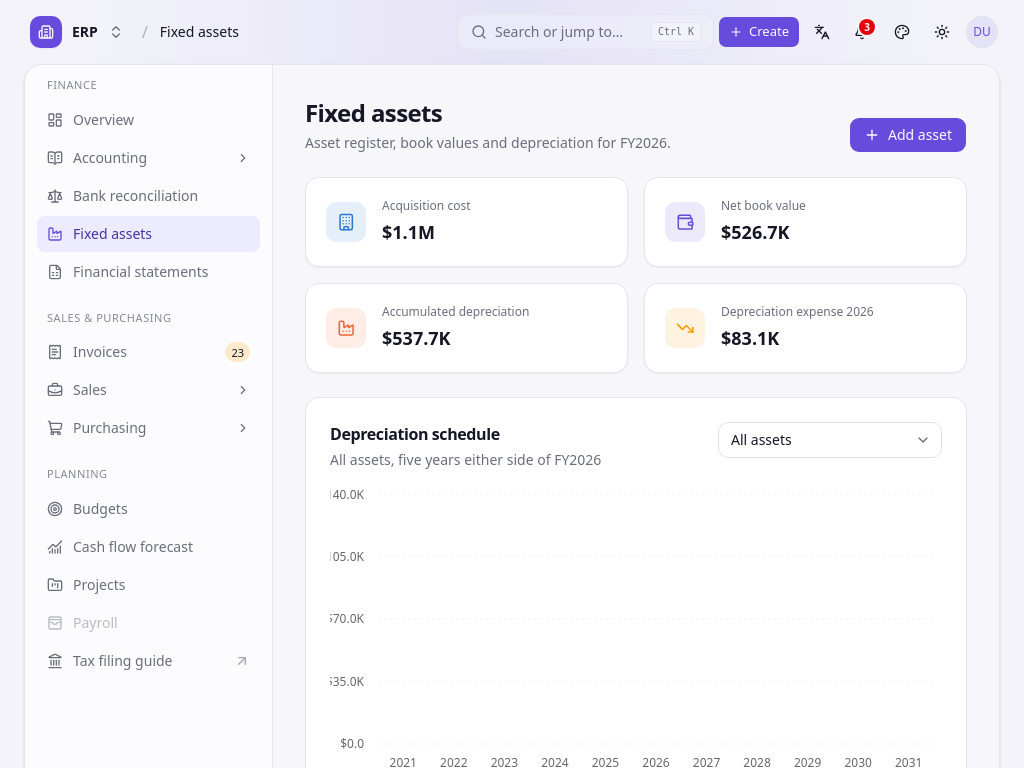
Test case: ERP operations › lists fixed assets and validates the add-asset form
The image size is (1024, 768).
Expected: the heading "Depreciation schedule" is shown, [330,423,500,445]
Click the button "Add asset": [908, 135] box [849,117,967,153]
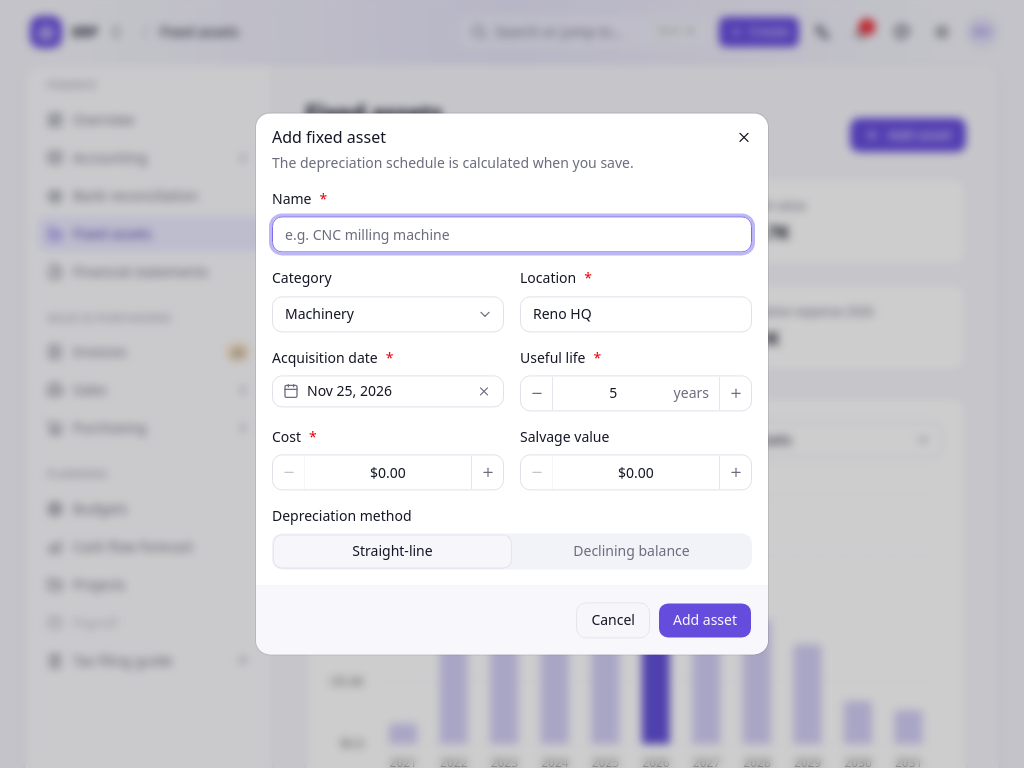
Click the button "Add asset": [705, 621] box [658,603,752,639]
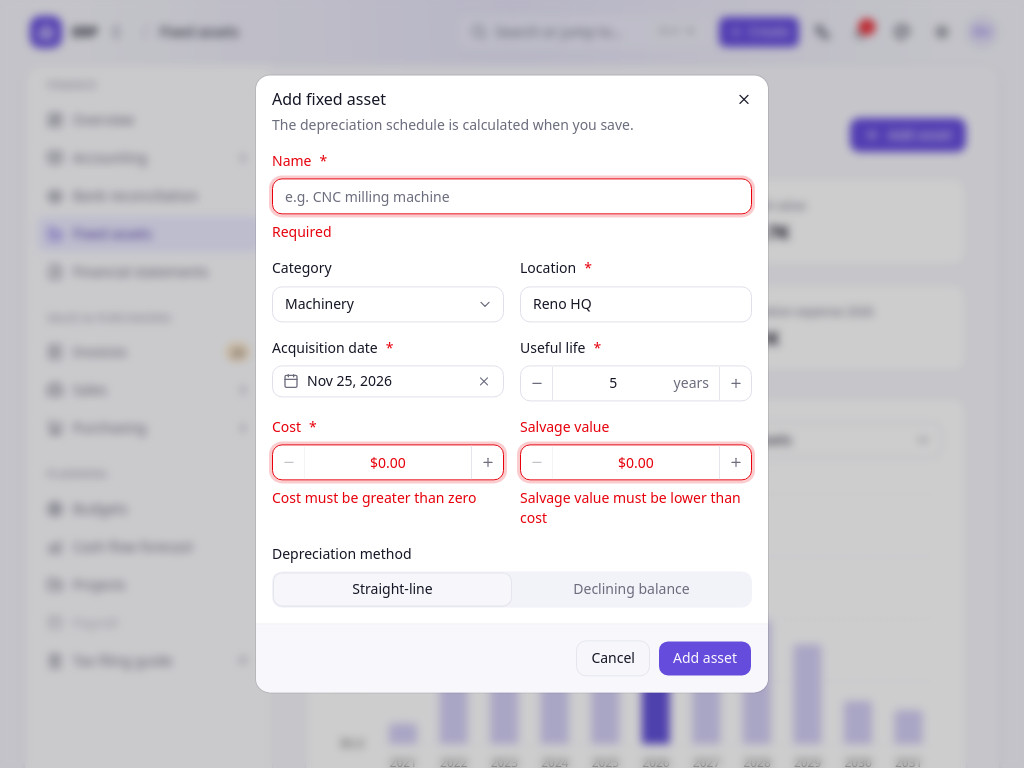
Expected: the text "Cost must be greater than zero" is shown, [272,488,504,508]
